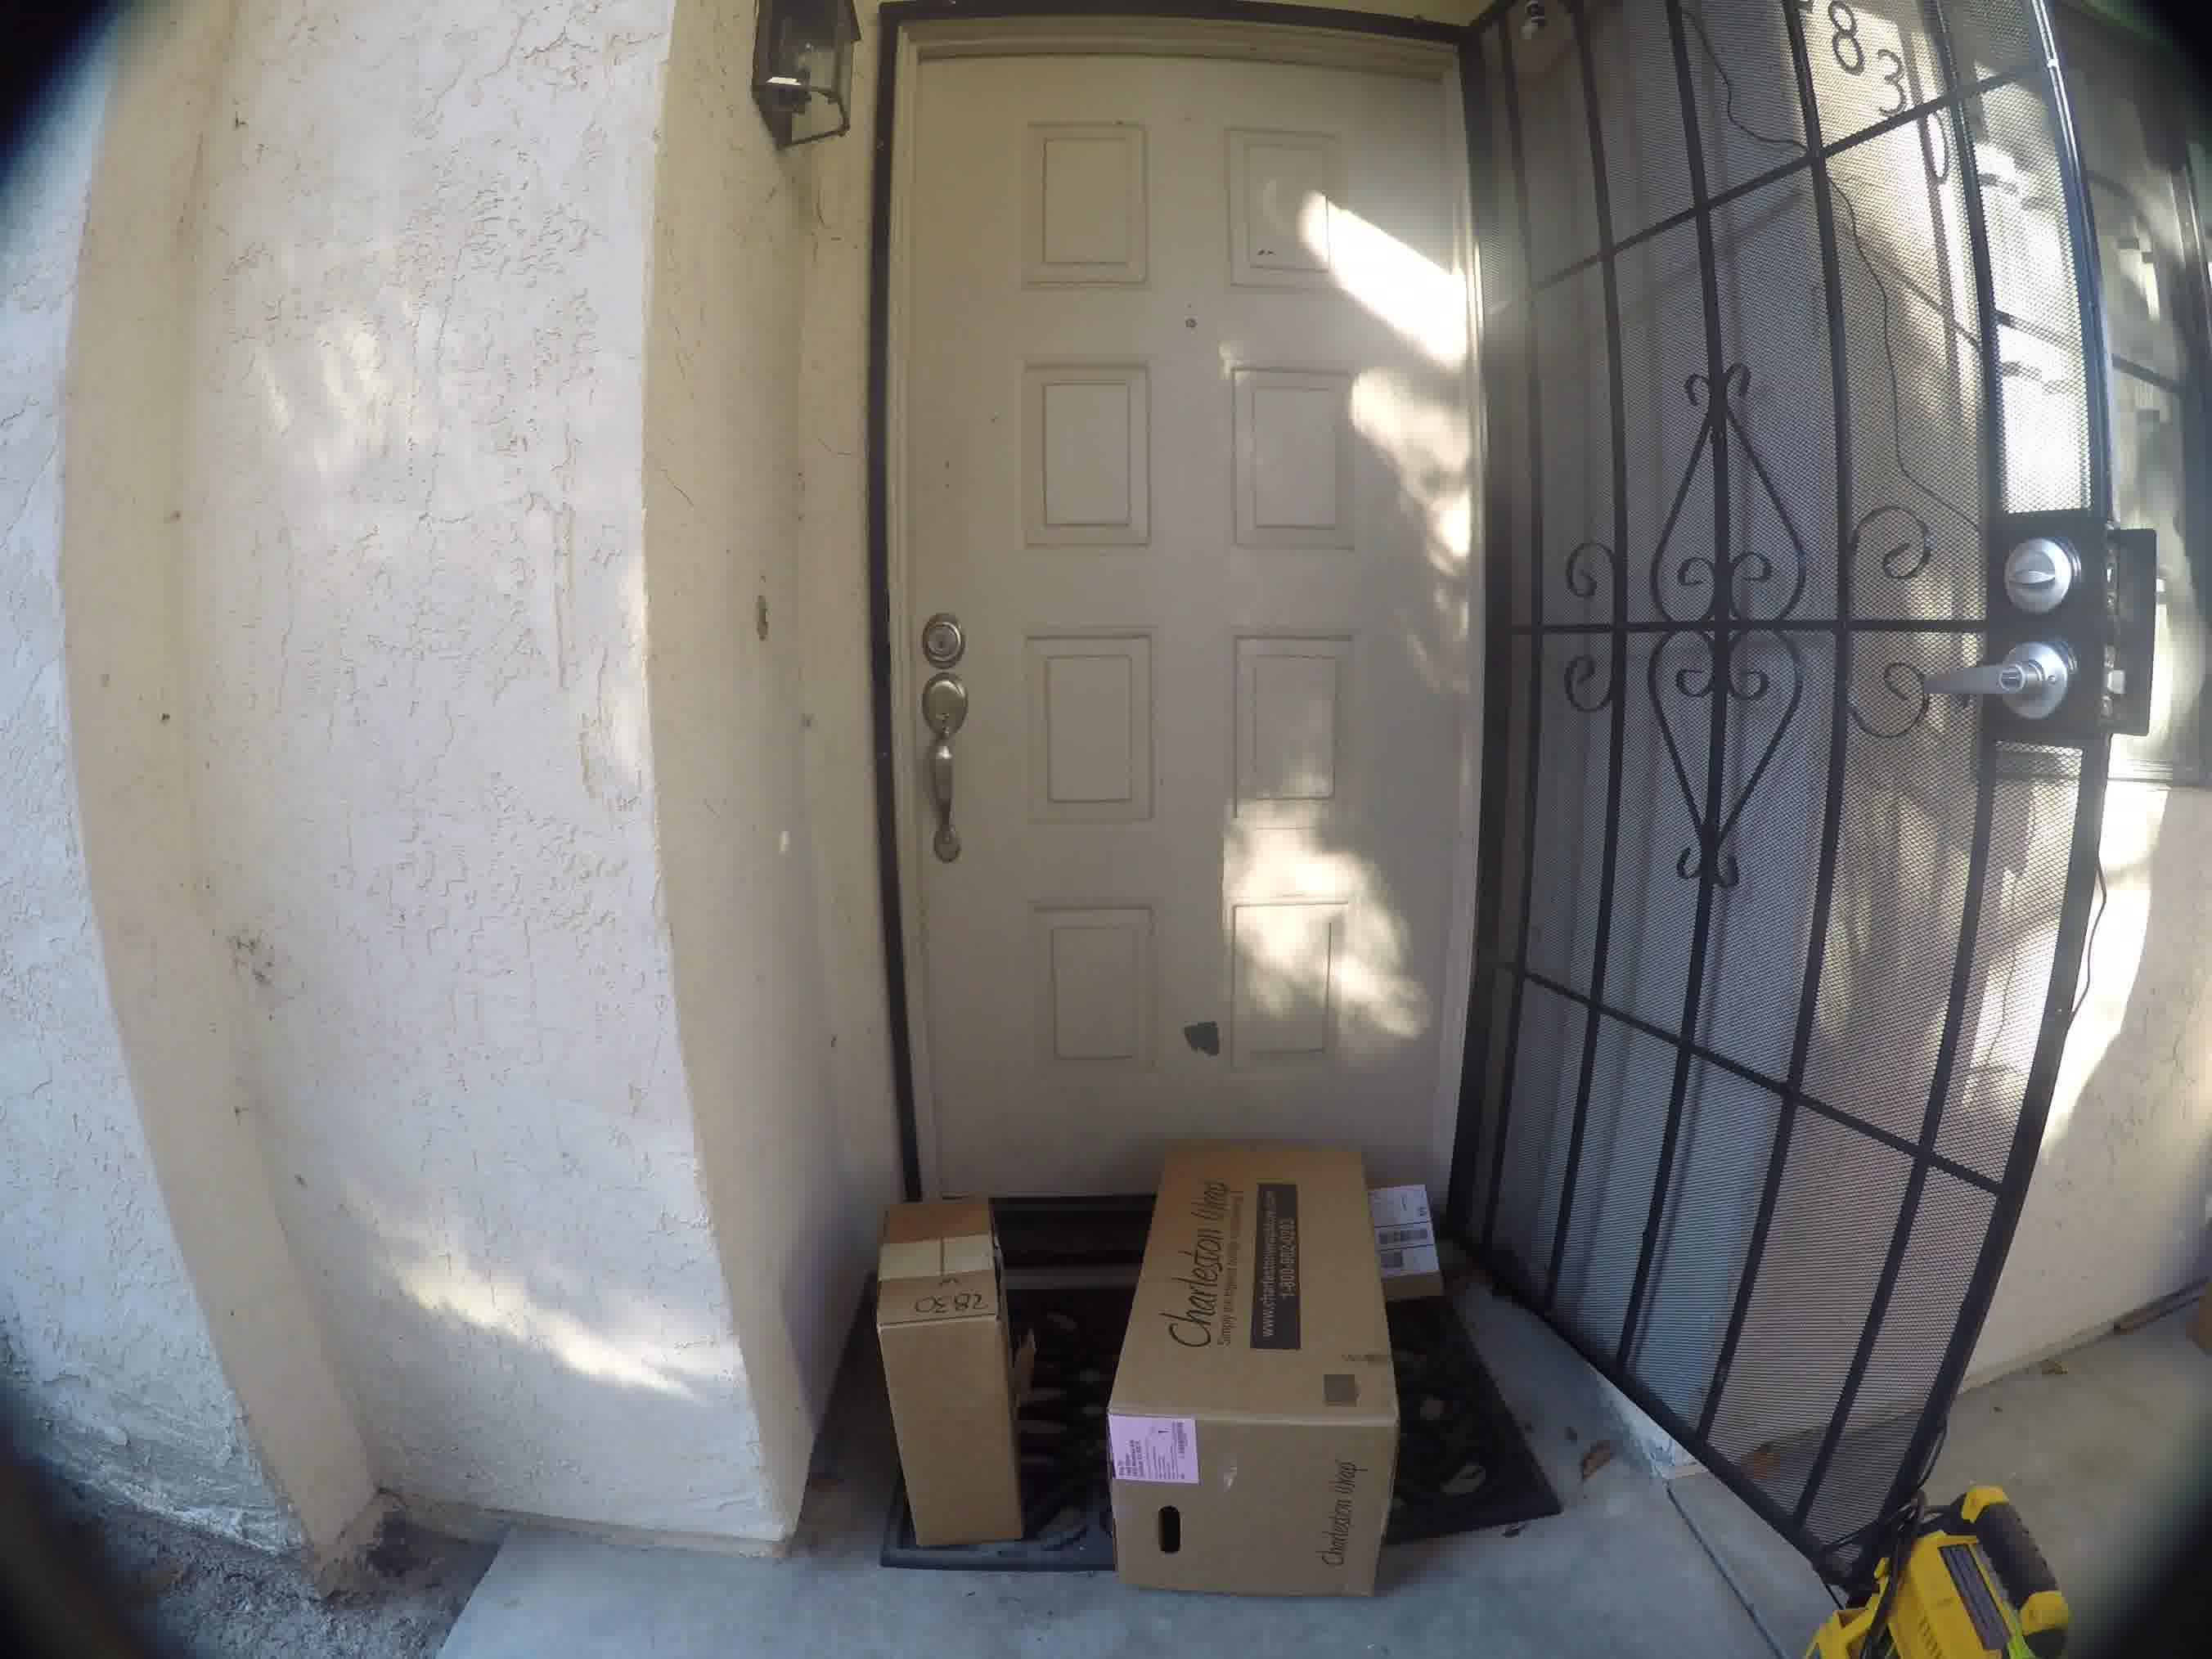box: (1103, 1103, 1376, 1591), (866, 1188, 1022, 1539), (1376, 1178, 1460, 1297)
